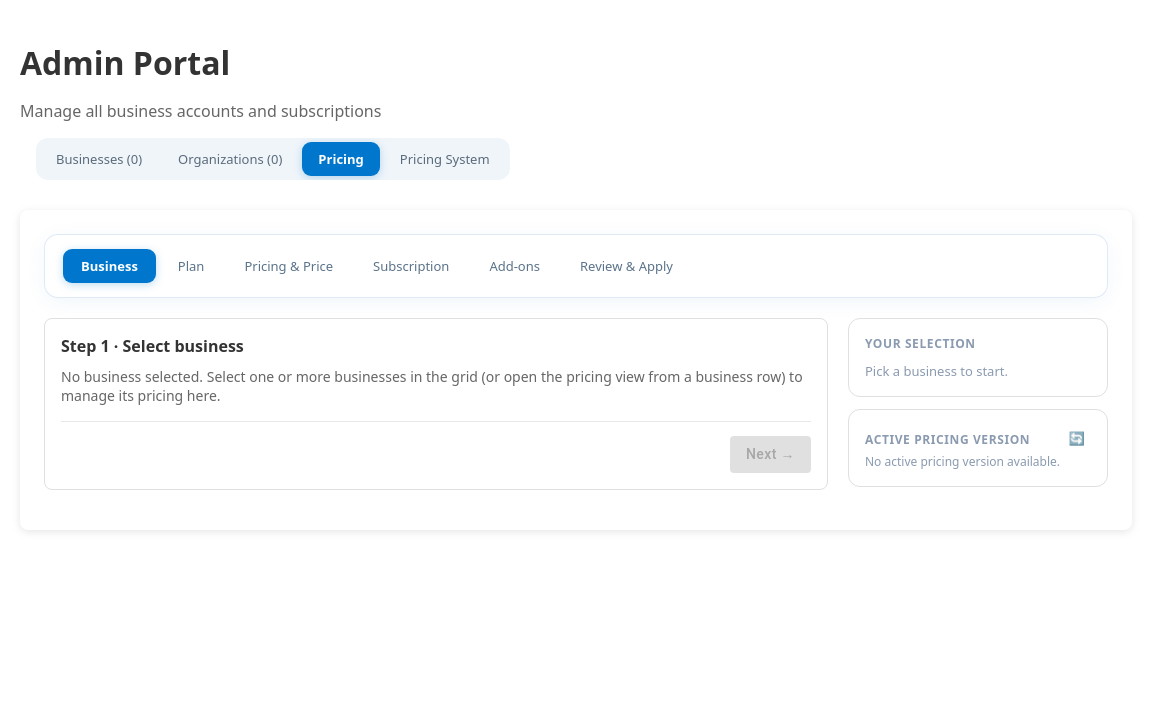
AdminPortal — Pricing Console gating › shows a 'Pricing System' tab that renders the system-wide controls (author/promote/cutover)
Expected: the heading "Admin Portal" is shown, [20,41,230,84]
Activating it renders the system controls (NOT the per-business workflow).
What coordinates should you click on to do the following:
click the button "Pricing System"
I would click on:
 (445, 159)
Its box is [384,142,506,176].
(page scrolled)
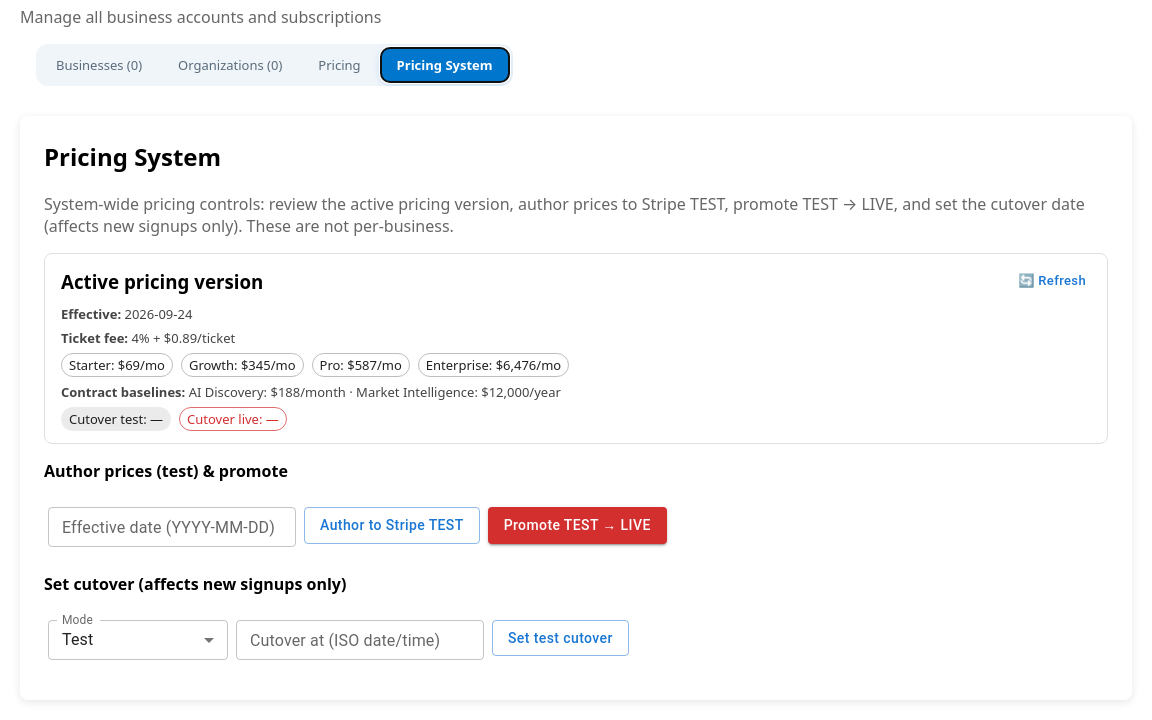
Result: the element with test id "pricing-system" is shown
Result: the button with test id "author-btn" is shown at [304,507,480,544]
Result: the button with test id "promote-btn" is shown at [488,507,667,544]
